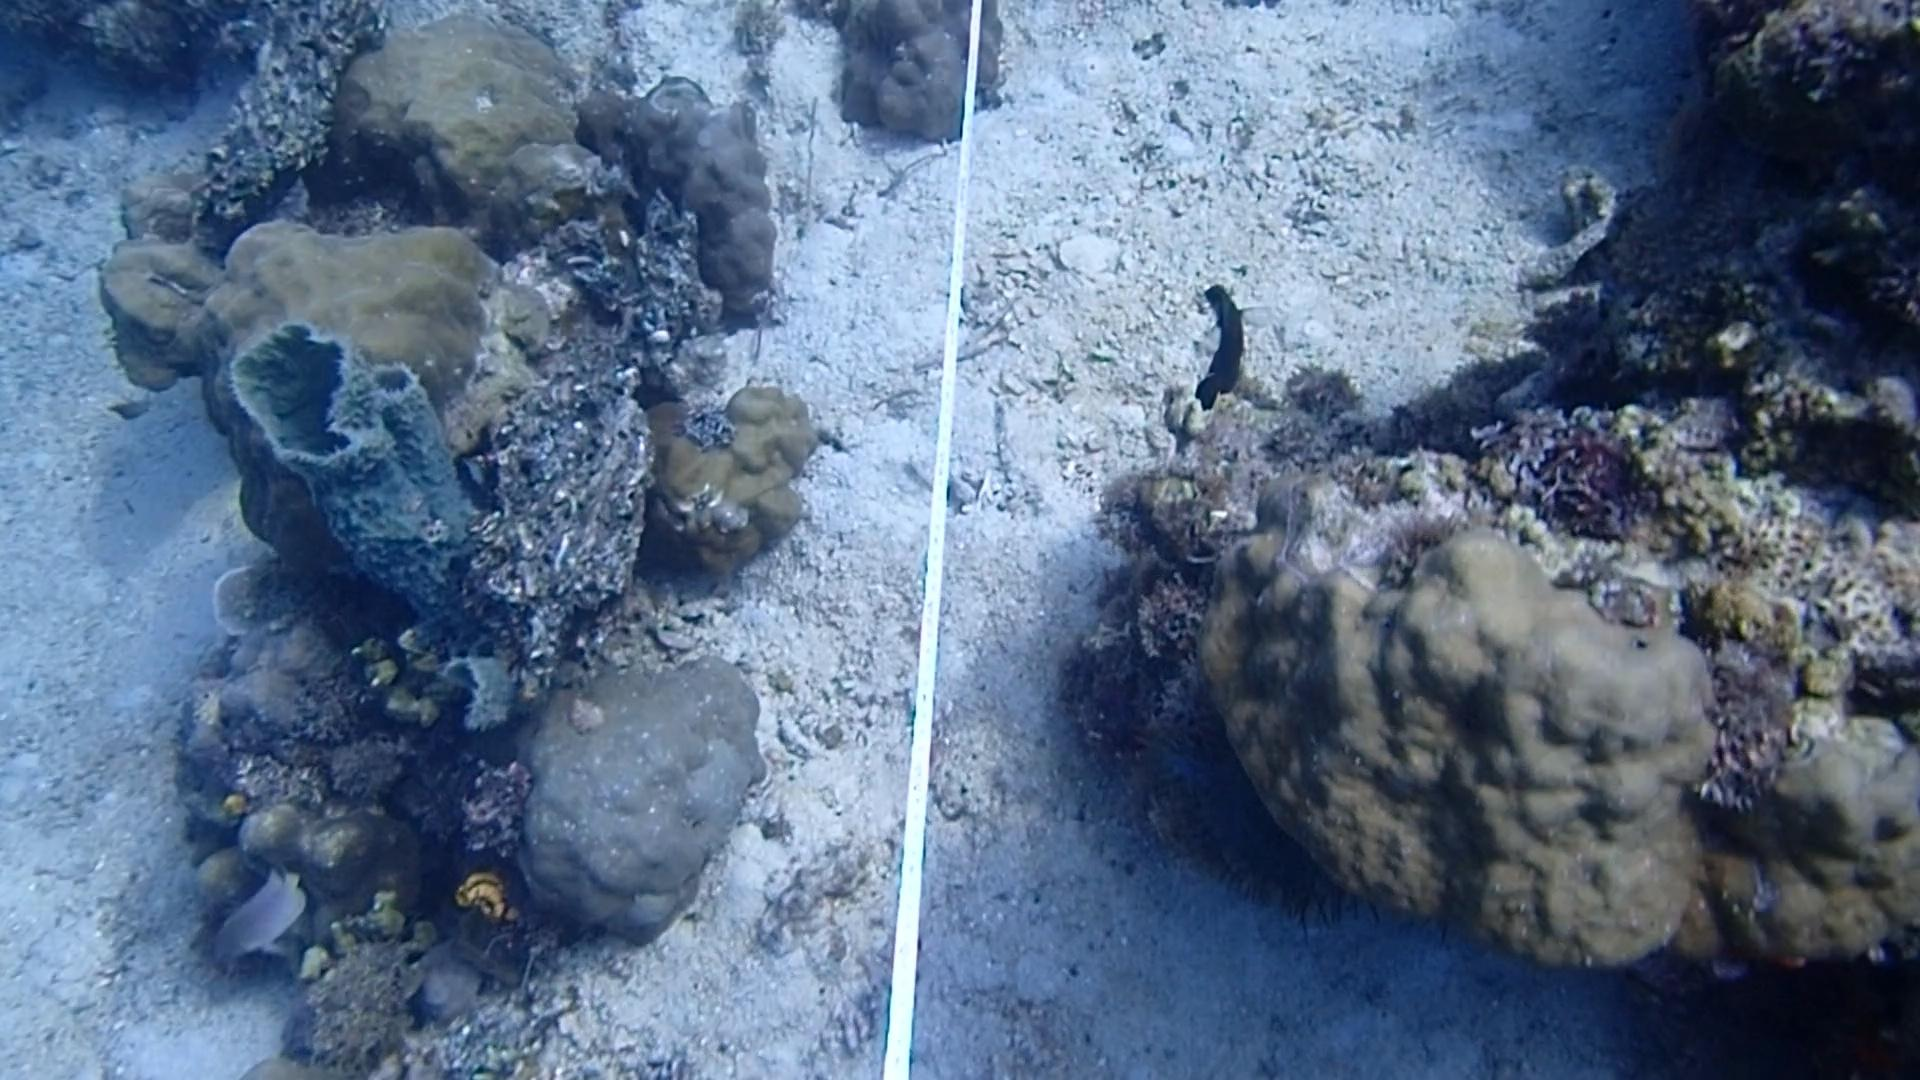Blue Nose Fish: (200, 856, 322, 965)
Dark Fish: (1172, 270, 1270, 407)
